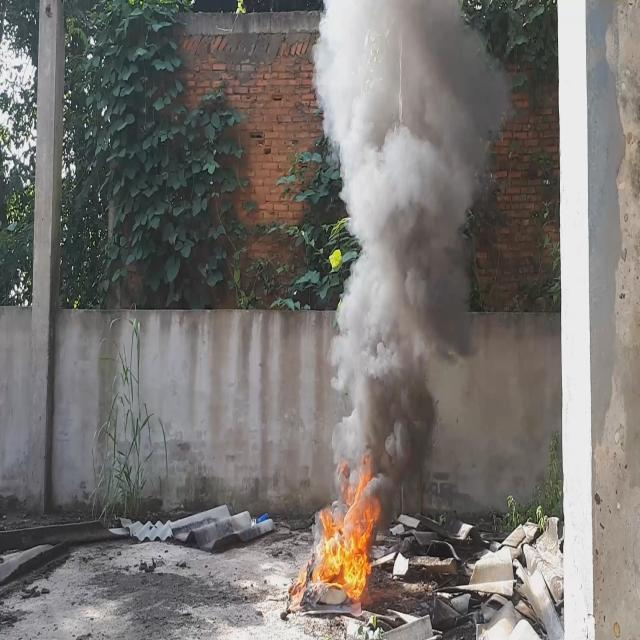Fire: (316, 451, 385, 595)
Smoke: (313, 0, 511, 506)
